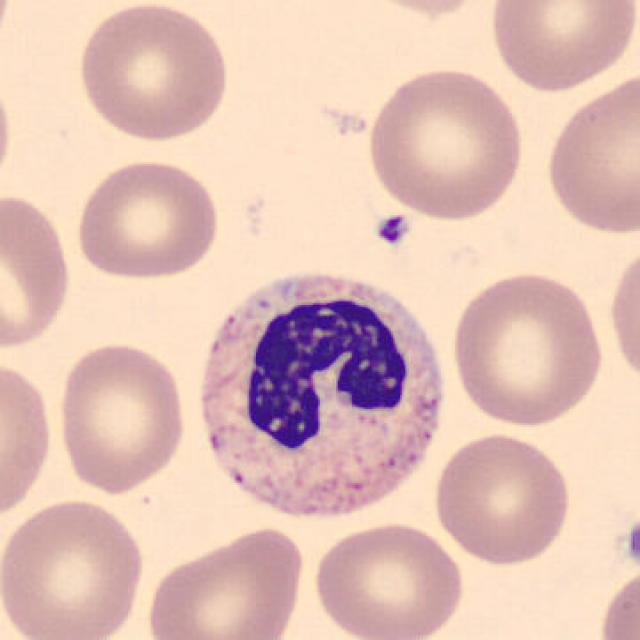Neutrophil: (187, 259, 455, 536)
Platelets: (372, 213, 412, 249), (624, 515, 640, 571)
RBC: (446, 266, 608, 430), (363, 64, 528, 222), (73, 0, 233, 145), (54, 337, 190, 497), (0, 493, 147, 640), (428, 428, 576, 568), (71, 155, 224, 284), (310, 518, 470, 640), (142, 523, 307, 640), (540, 67, 640, 238), (484, 0, 638, 95), (0, 187, 75, 353), (0, 356, 57, 526), (604, 240, 640, 391), (594, 562, 640, 640), (346, 0, 497, 19), (0, 65, 16, 201), (0, 0, 18, 65)
